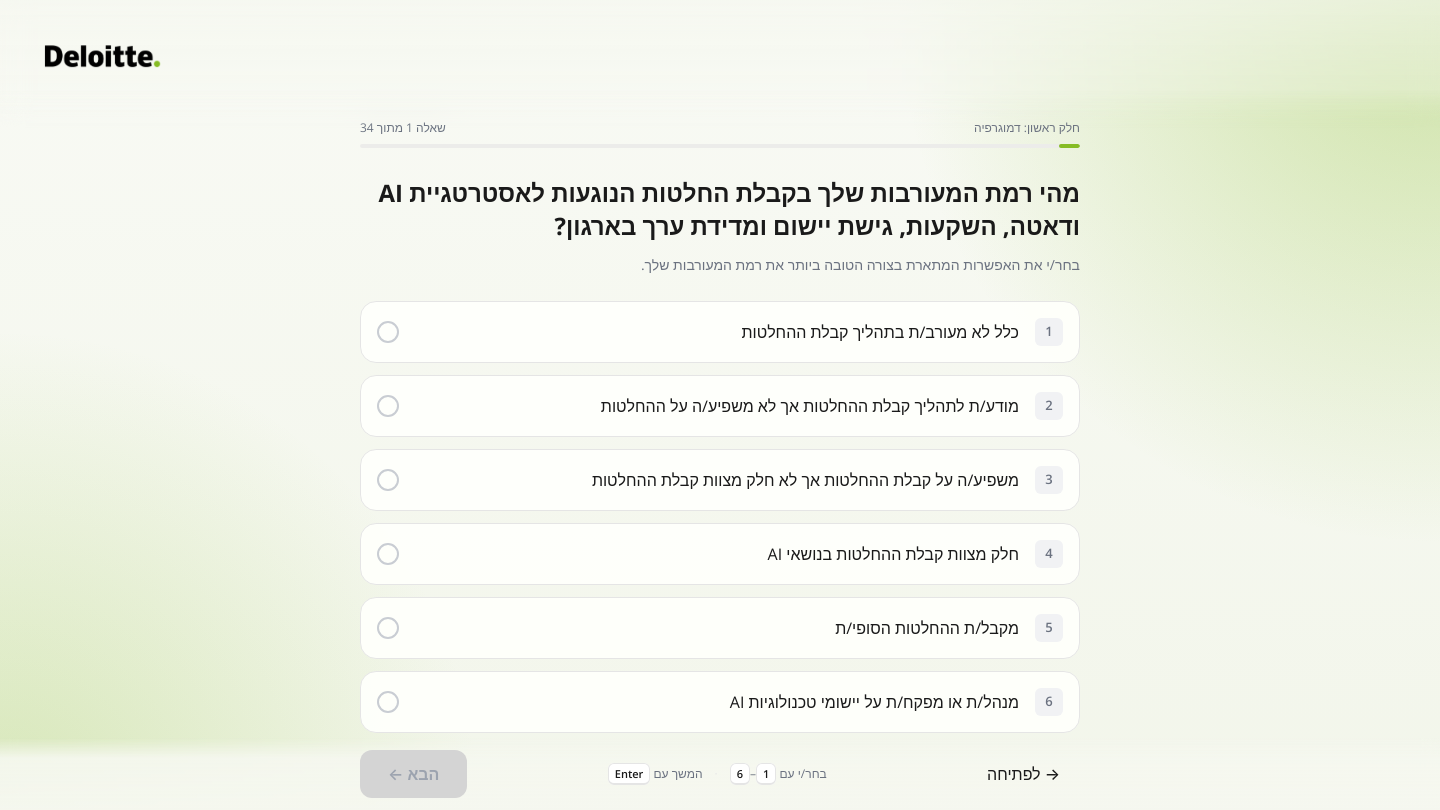
Scenario: Survey flow (Welcome → Question → Summary) › answering Q1 enables Next, and the selection is retained after navigating back
Expected: the button "הבא ←" is disabled, left=360, top=750, right=467, bottom=798
Step 1. Click the radio button labelled "1 כלל לא מעורב/ת בתהליך קבלת ההחלטות" → (880, 332), box left=360, top=301, right=1080, bottom=363
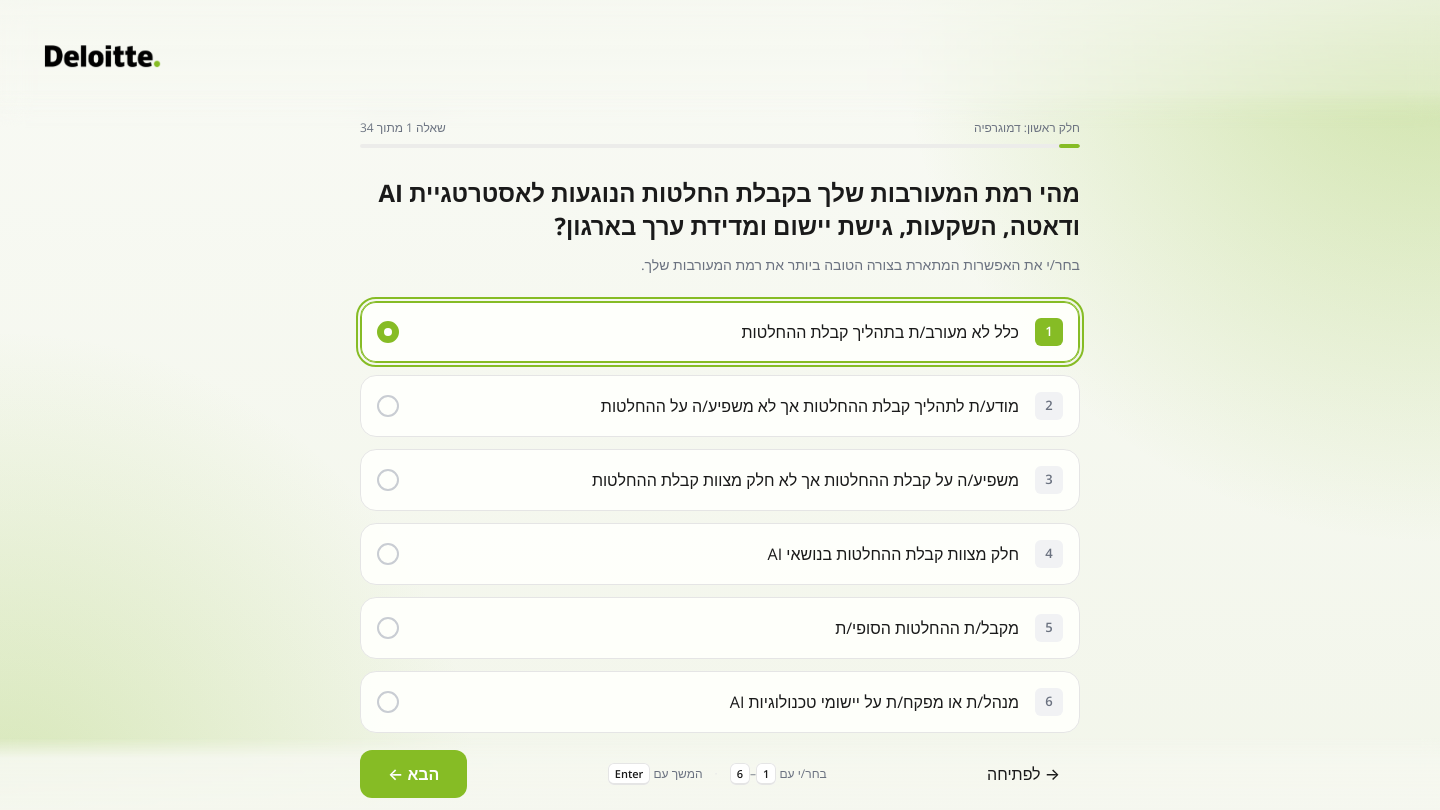
Result: the button "הבא ←" is enabled
Step 2. Click the button "הבא ←" → (414, 774), box left=360, top=750, right=467, bottom=798
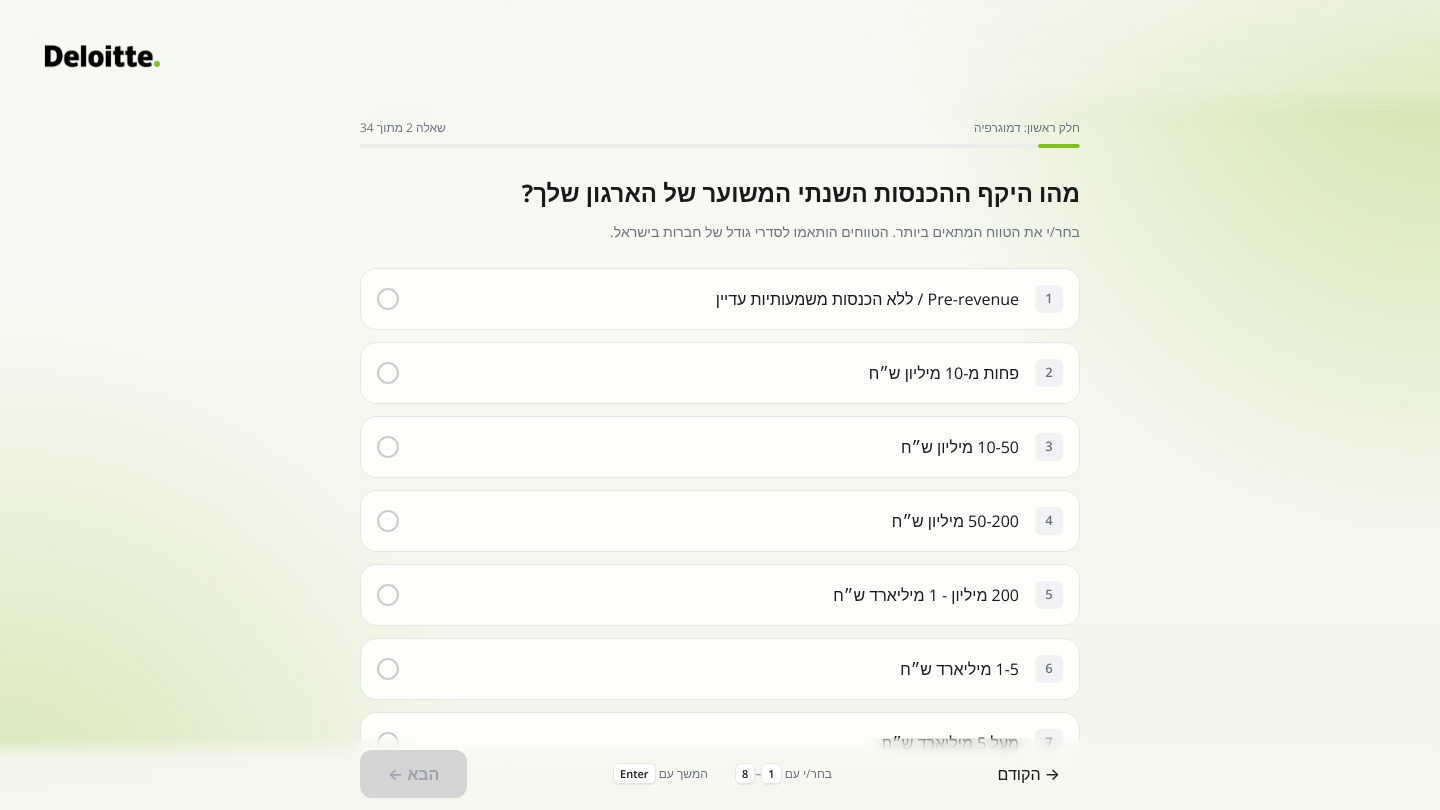
Result: the heading reads "מהו היקף ההכנסות השנתי המשוער של הארגון שלך?" at left=522, top=176, right=1080, bottom=209
Step 3. Click the button "→ הקודם" → (1029, 774), box left=978, top=750, right=1080, bottom=798
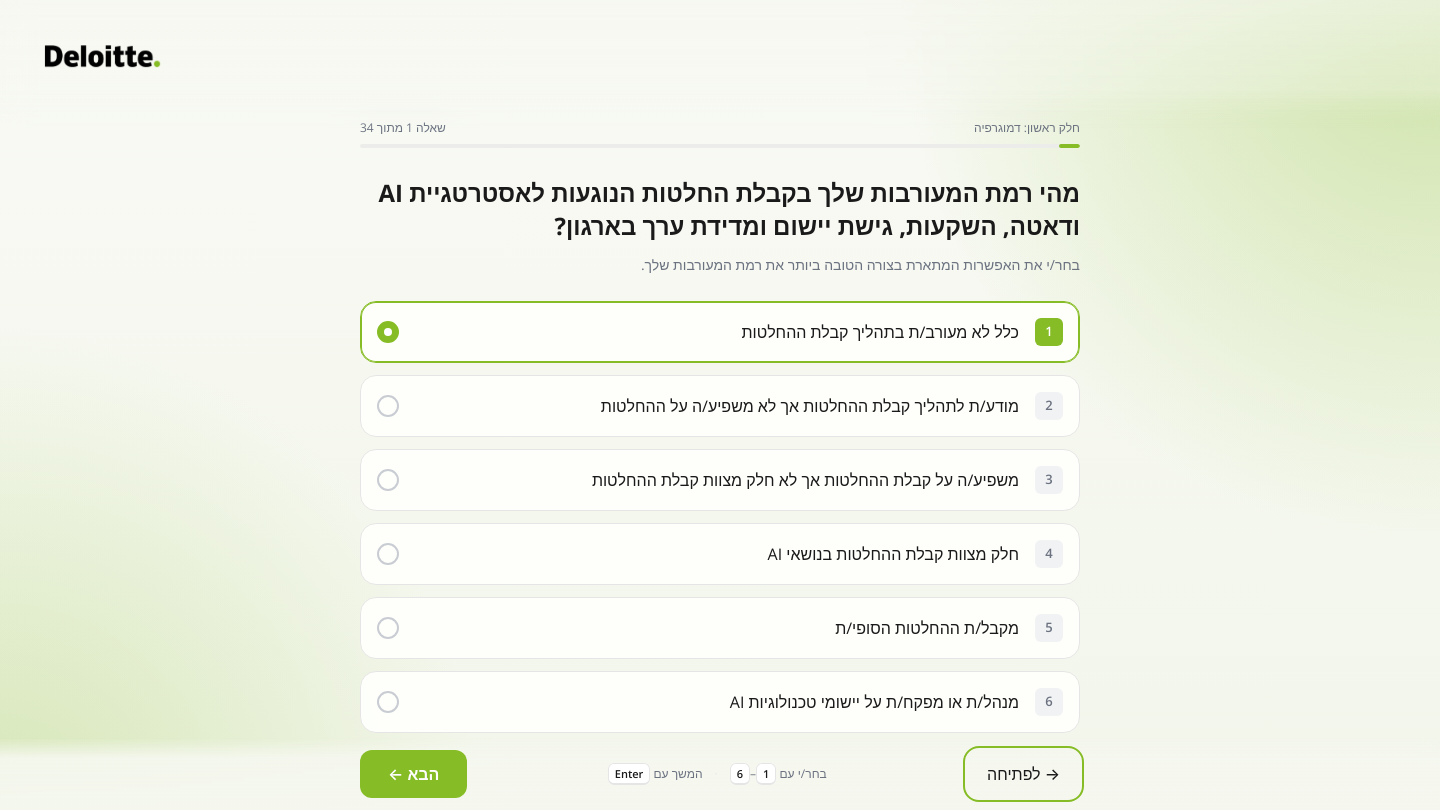
Result: the heading shows "מהי רמת המעורבות שלך בקבלת החלטות הנוגעות לאסטרטגיית AI ודאטה, השקעות, גישת יישום ומדידת ערך בארגון?" at left=360, top=176, right=1080, bottom=242
